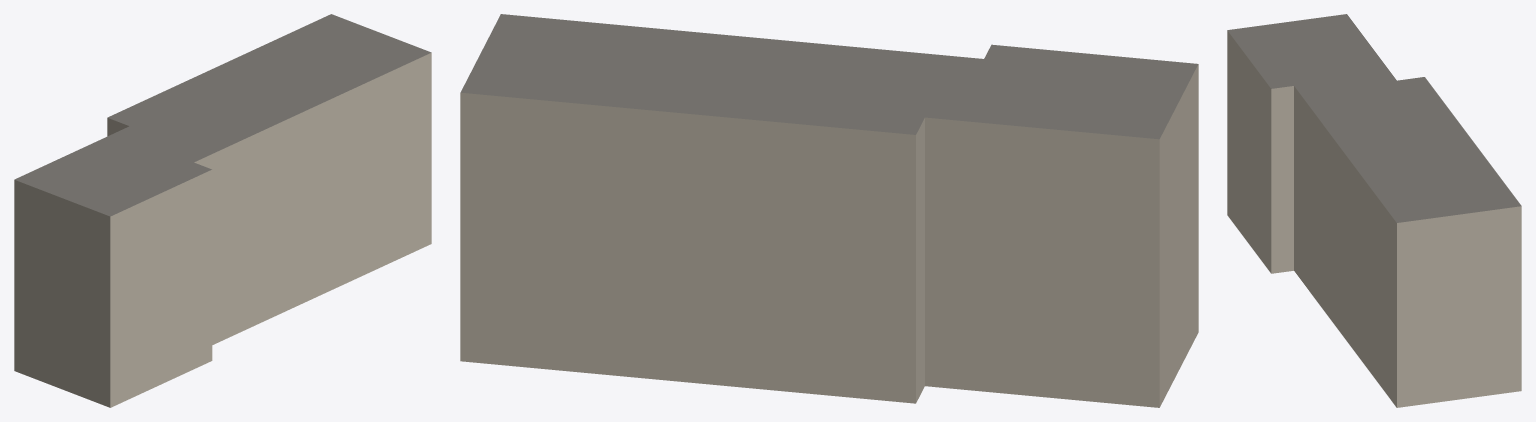
3 renders of one model, left to right at view 1: azimuth 30°, elevation 25°; view 2: azimuth 150°, elevation 25°; view 3: azimuth 270°, elevation 25°, orthographic. The views are drawn at different scales.
Visible parts, largest first — view 1: HP-w1287260186; view 2: HP-w1287260186; view 3: HP-w1287260186.
Part boxes in pixels (left/top/right/bottom): HP-w1287260186: left=14, top=14, right=431, bottom=407; HP-w1287260186: left=460, top=14, right=1198, bottom=407; HP-w1287260186: left=1227, top=14, right=1521, bottom=407.
Size of the model in its own units: 43.65 by 18 by 25.99.
